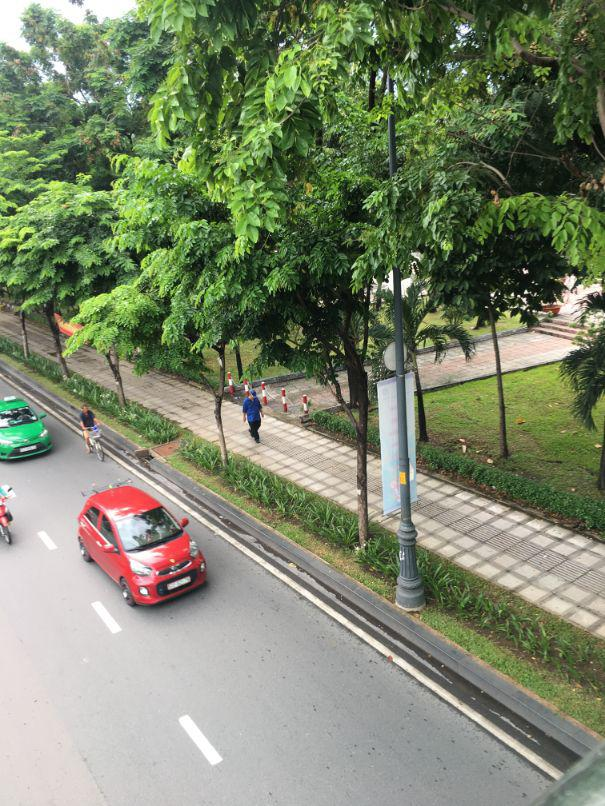car: (77, 483, 210, 610), (0, 394, 53, 465)
motorbike: (0, 502, 15, 546)
